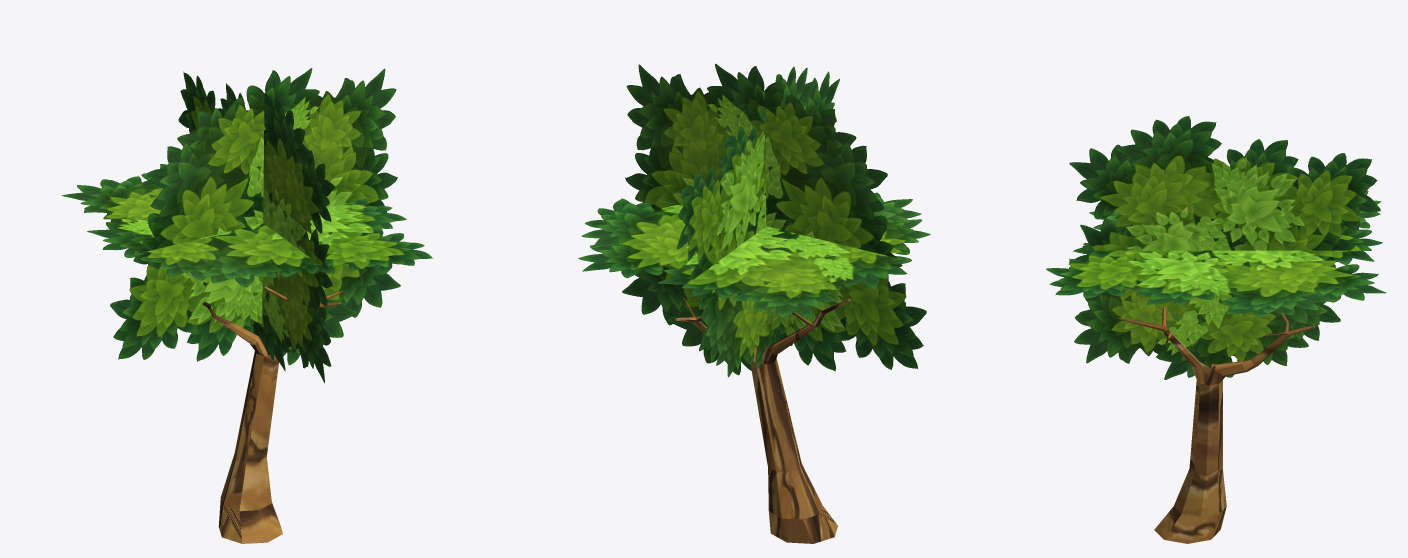
The model's file is Tree.fbx.
The picture shows the model from 3 angles, left to right: view 1: azimuth 30°, elevation 25°; view 2: azimuth 150°, elevation 25°; view 3: azimuth 270°, elevation 25°; orthographic projection. The views are drawn at different scales.
Parts seen in each view (by area): view 1: Tree; view 2: Tree; view 3: Tree.
Part boxes in pixels (x1,y1,x2,y2): Tree: (62,68,433,543); Tree: (578,63,930,543); Tree: (1046,116,1385,543).
Bounding box in the file's own units: 602 × 862 × 600.
